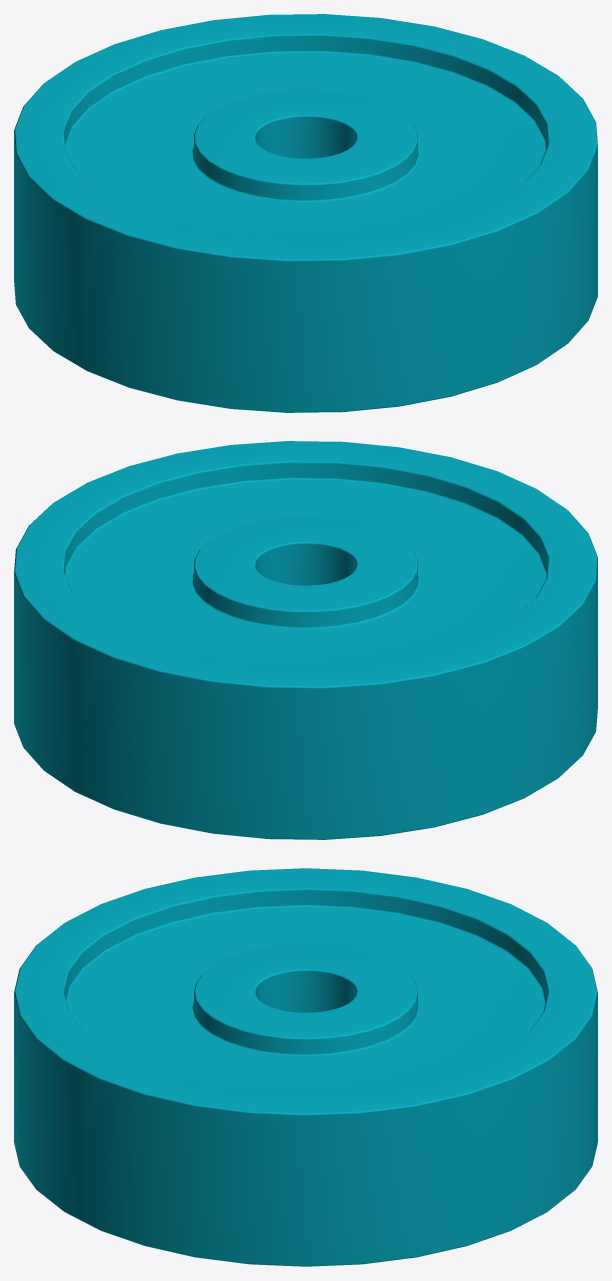
The model's file is Public_18_Weight_4.glb.
3 renders of one model, top to bottom at view 1: azimuth 30°, elevation 25°; view 2: azimuth 150°, elevation 25°; view 3: azimuth 270°, elevation 25°, orthographic.
Visible parts, largest first — view 1: Public_18_Weight_4; view 2: Public_18_Weight_4; view 3: Public_18_Weight_4.
Boxes of the visible parts, left/top/right/bottom form: Public_18_Weight_4: left=14, top=14, right=597, bottom=412; Public_18_Weight_4: left=14, top=441, right=597, bottom=839; Public_18_Weight_4: left=14, top=868, right=597, bottom=1266.
Size of the model in its own units: 1.77 by 0.5137 by 1.77.
Materials: 1 (1 with a texture image).
